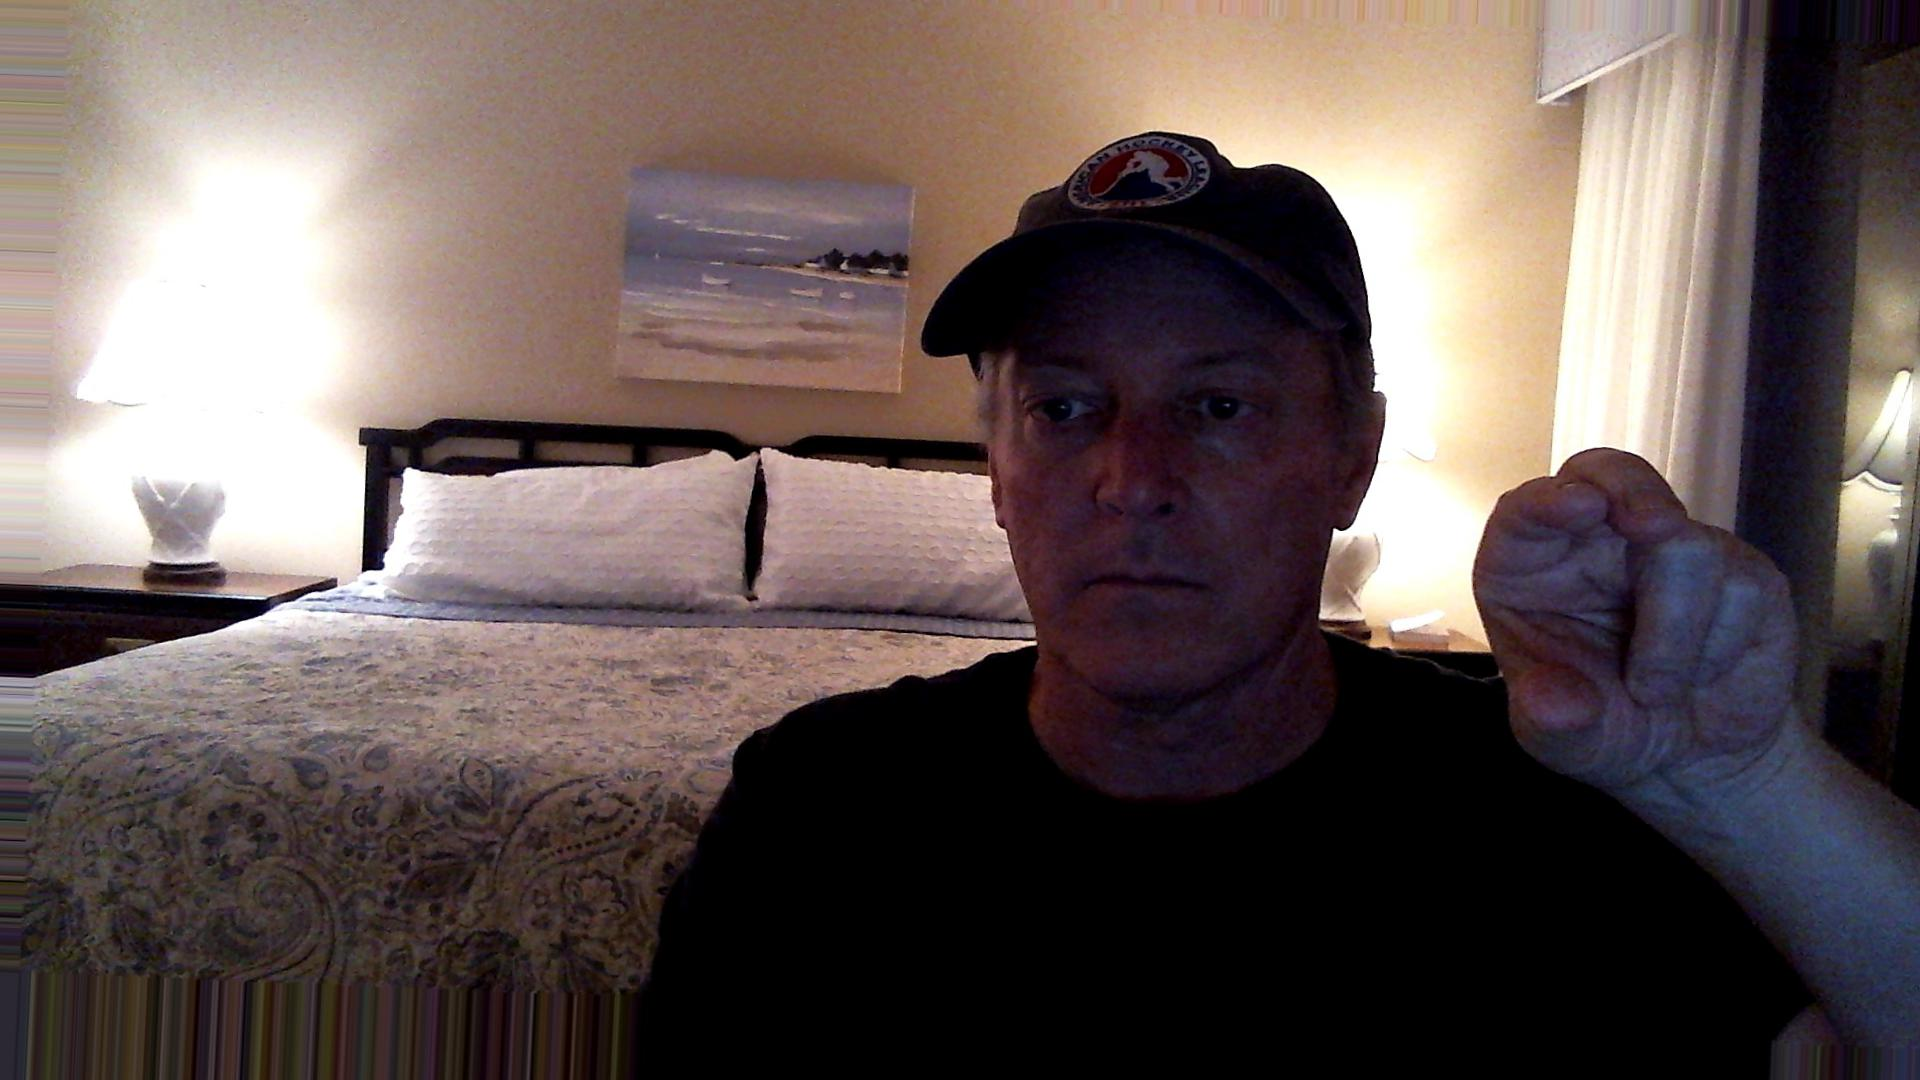No: (1425, 434, 1844, 818)
